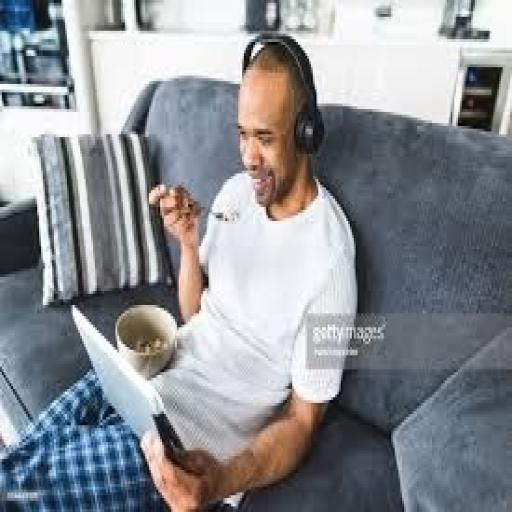listening_to_music: (0, 28, 361, 509)
